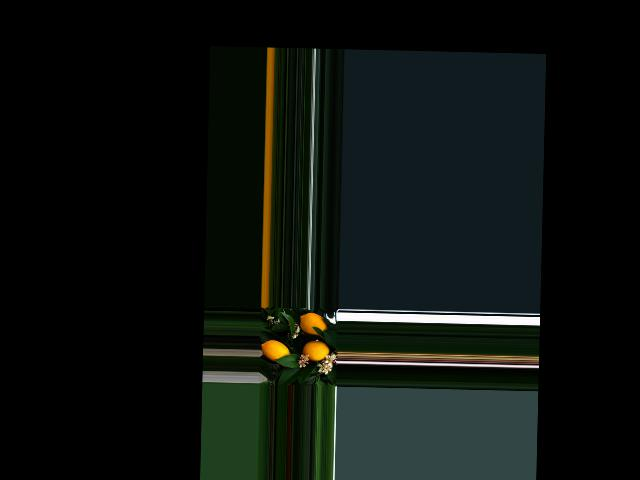lemon: (261, 338, 293, 366)
